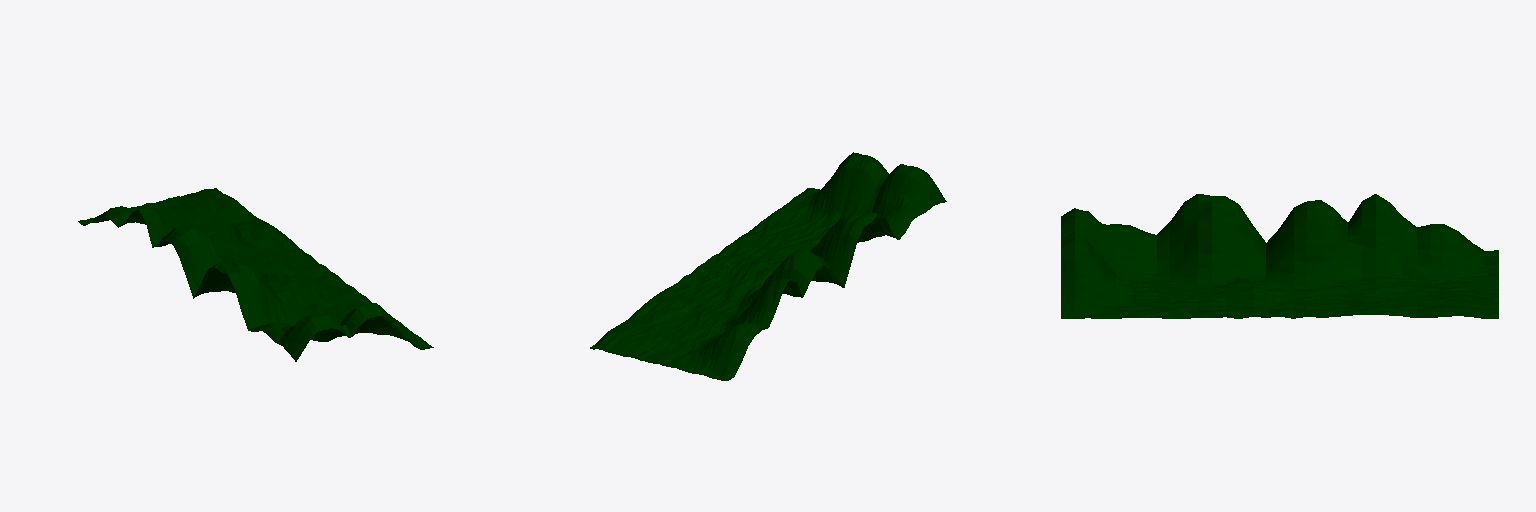
The model's file is plains_4.obj.
3 views of the same model, side by side, from view 1: azimuth 30°, elevation 25°; view 2: azimuth 150°, elevation 25°; view 3: azimuth 270°, elevation 25° (orthographic).
Parts seen in each view (by area): view 1: Plane; view 2: Plane; view 3: Plane.
Part boxes in pixels (bbox=[...]): Plane: bbox=[78, 188, 433, 361]; Plane: bbox=[590, 152, 946, 380]; Plane: bbox=[1061, 194, 1498, 318].
Bounding box in the file's own units: 5.69 × 2.3 × 15.57.